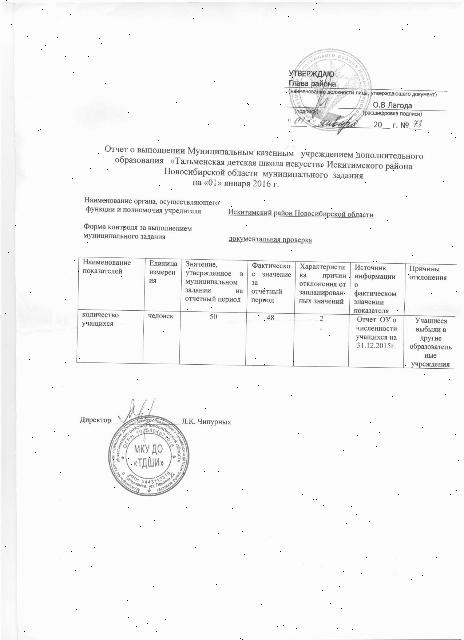stamp: (107, 414, 189, 498), (289, 49, 371, 130)
